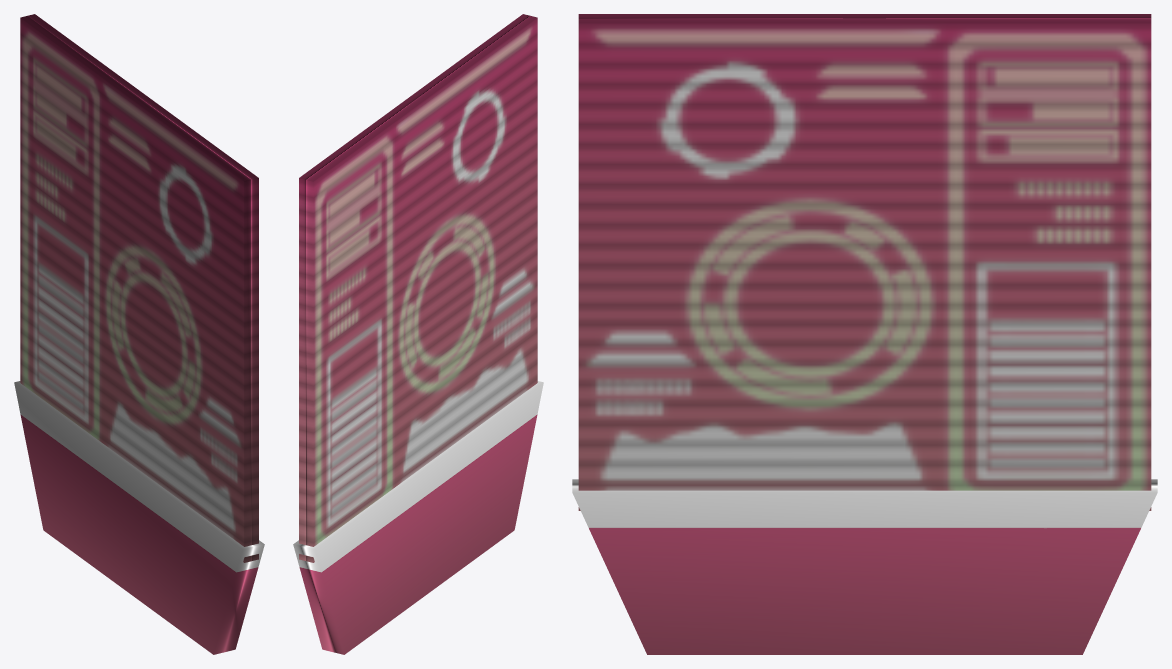
The model's file is Armchair_013_Display_01.fbx.
3 views of the same model, side by side, from view 1: azimuth 30°, elevation 25°; view 2: azimuth 150°, elevation 25°; view 3: azimuth 270°, elevation 25° (orthographic). The views are drawn at different scales.
Visible parts, largest first — view 1: Armchair_013_Display_01; view 2: Armchair_013_Display_01; view 3: Armchair_013_Display_01.
Boxes of the visible parts, left/top/right/bottom form: Armchair_013_Display_01: left=14, top=14, right=264, bottom=654; Armchair_013_Display_01: left=293, top=14, right=543, bottom=654; Armchair_013_Display_01: left=572, top=14, right=1157, bottom=654.
Bounding box in the file's own units: 1.28 × 22.91 × 27.21.
